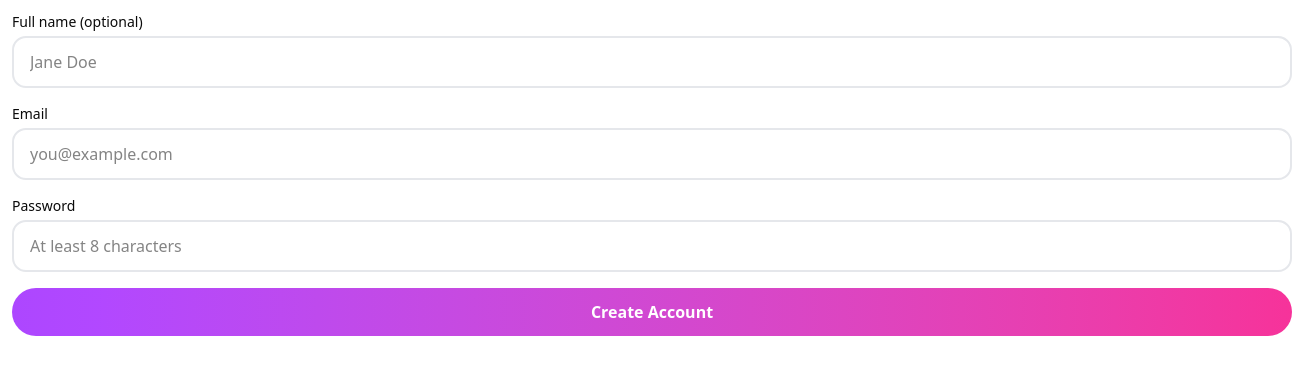
RegisterForm › shows a form-level error and does not navigate when register rejects
Type "jane@example.com" into the field with placeholder "you@example.com" at {"x": 652, "y": 154}, box left=12, top=128, right=1292, bottom=180
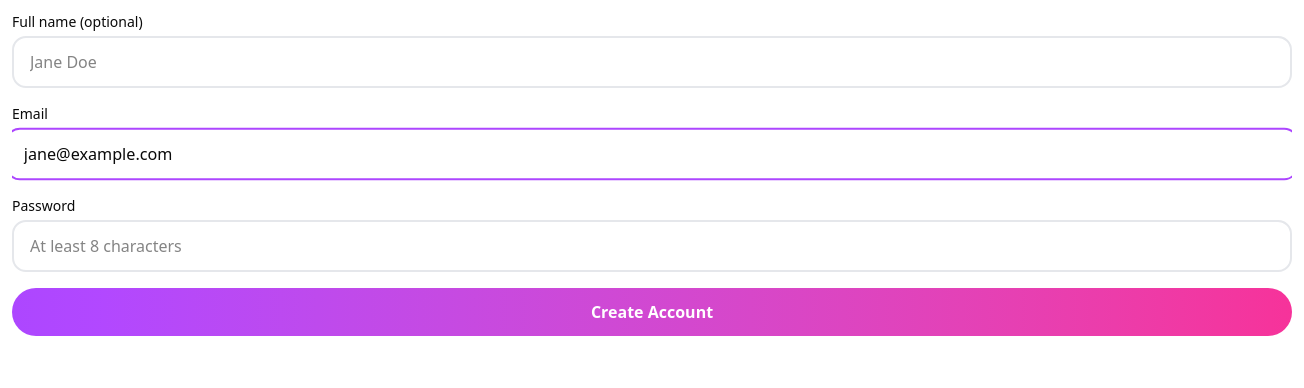
Type "password123" into the password field with placeholder "At least 8 characters" at {"x": 652, "y": 246}, box left=12, top=220, right=1292, bottom=272
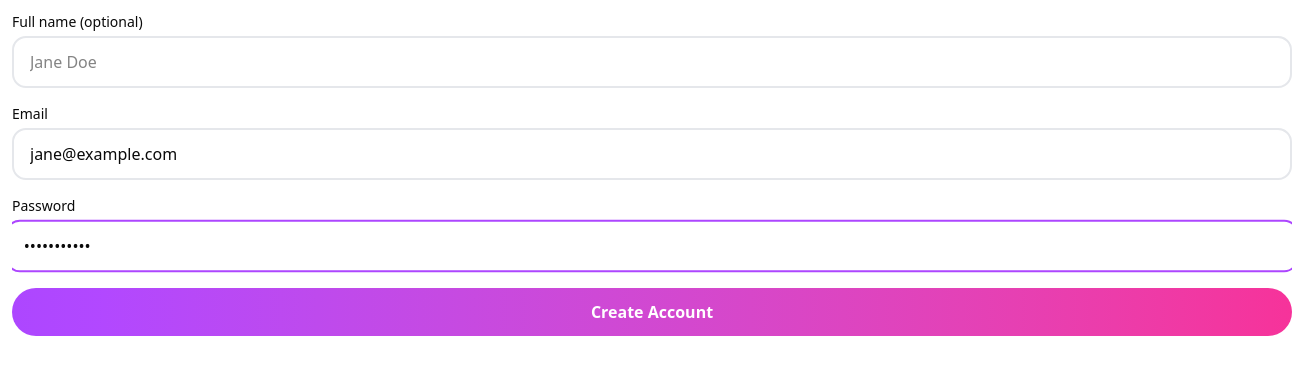
Click the button "Create Account" at {"x": 652, "y": 312}, box left=12, top=288, right=1292, bottom=336
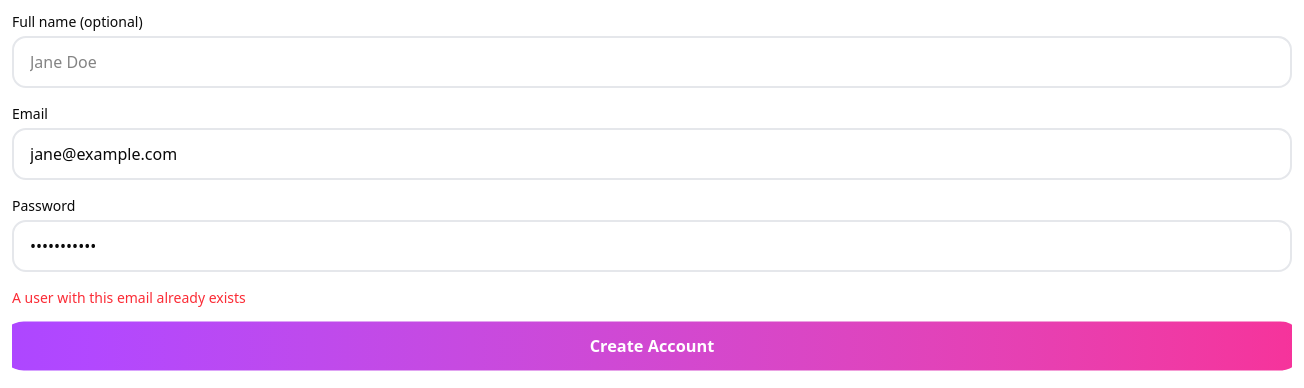
Now the text "A user with this email already exists" is shown, box left=12, top=288, right=246, bottom=307
